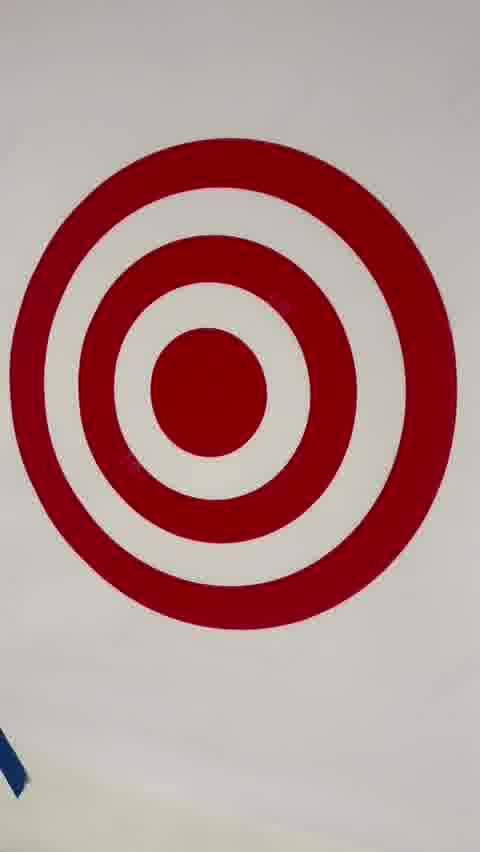target_red: (10, 135, 456, 632)
